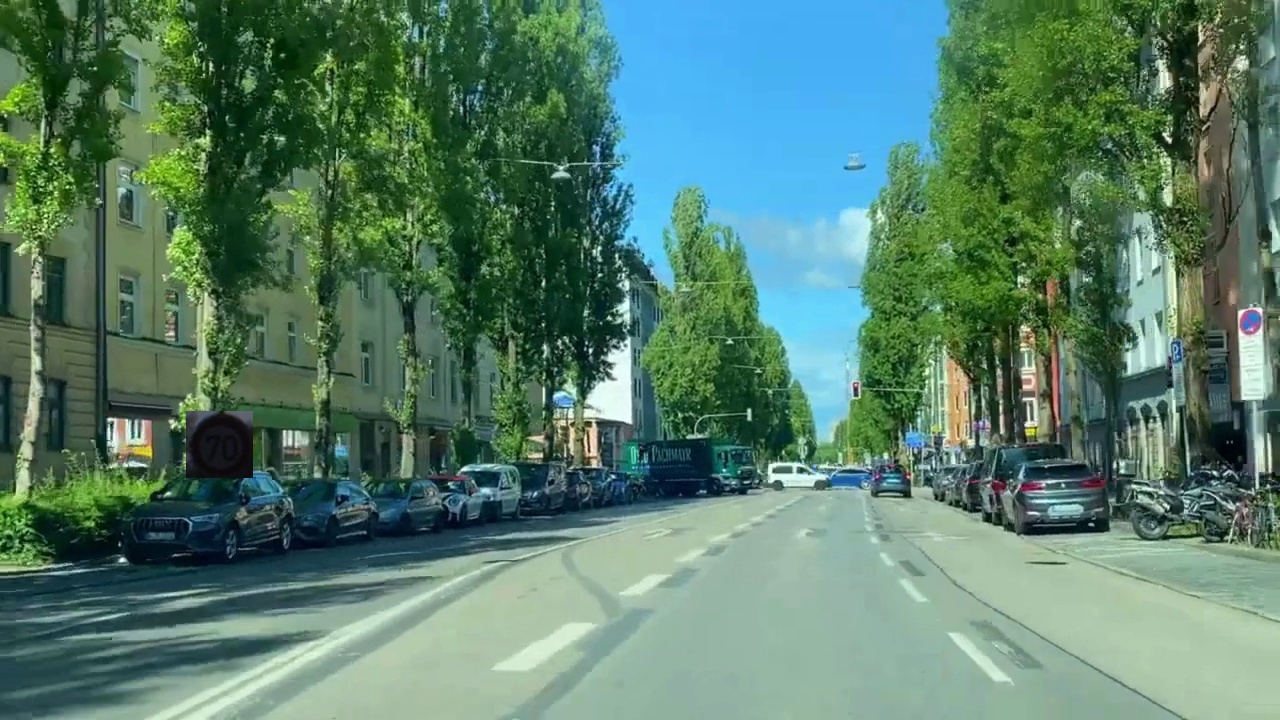Speed 70: (186, 411, 253, 478)
